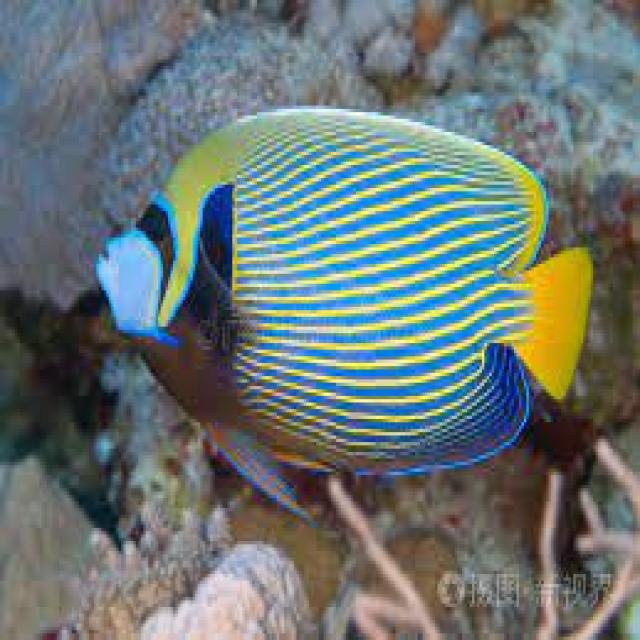AngelFish: (100, 107, 592, 521)
